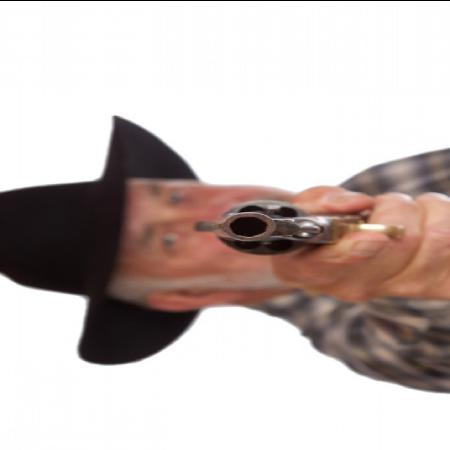Pistol: (186, 198, 402, 256)
